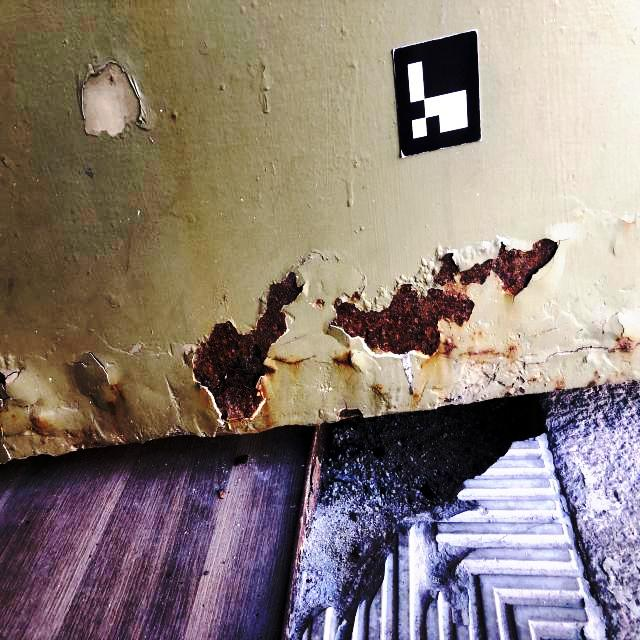Corrosion: (332, 238, 559, 355), (193, 272, 302, 421), (281, 423, 332, 640), (454, 342, 520, 362), (610, 334, 640, 352), (441, 335, 457, 356), (338, 408, 363, 420), (333, 351, 353, 366), (74, 442, 103, 450), (30, 415, 41, 436), (107, 401, 117, 417), (553, 379, 564, 392), (312, 298, 325, 307), (81, 429, 93, 437), (516, 374, 525, 383), (529, 375, 536, 384), (587, 380, 596, 387), (68, 432, 77, 438), (594, 370, 600, 378), (518, 388, 525, 394), (504, 392, 512, 397), (605, 379, 610, 384)
